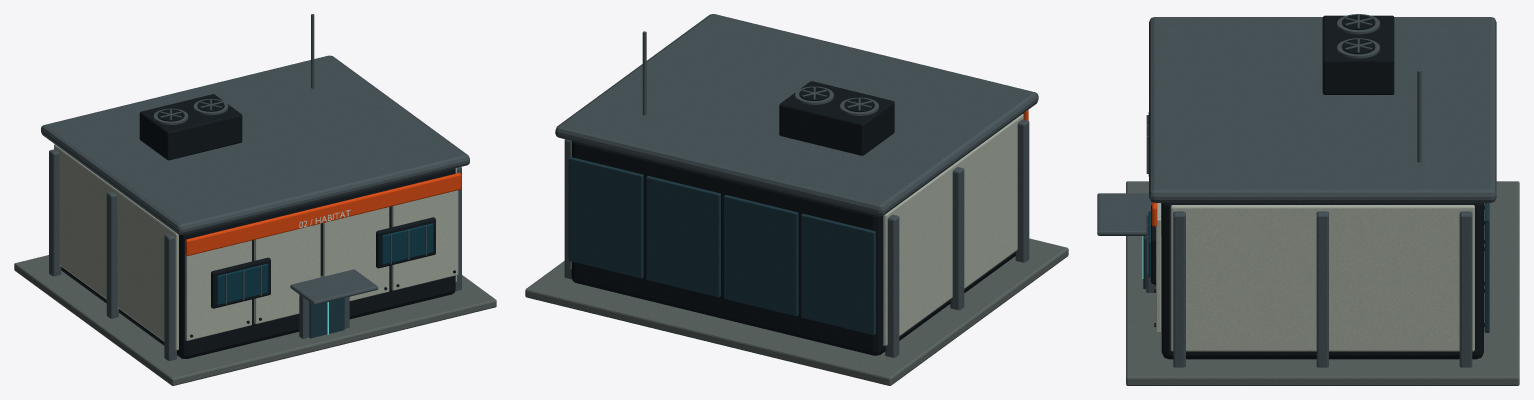
The model's file is Habitat.gltf.
3 renders of one model, left to right at view 1: azimuth 30°, elevation 25°; view 2: azimuth 150°, elevation 25°; view 3: azimuth 270°, elevation 25°, orthographic. The views are drawn at different scales.
Parts seen in each view (by area): view 1: Habitat_Metal_gris, Habitat_Panel_marfil, Habitat_Acero_oscuro, Habitat_Hormigon, Habitat_Naranja, Habitat_Vidrio, Habitat_Panel_azul; view 2: Habitat_Metal_gris, Habitat_Panel_azul, Habitat_Acero_oscuro, Habitat_Hormigon, Habitat_Panel_marfil; view 3: Habitat_Metal_gris, Habitat_Panel_marfil, Habitat_Hormigon, Habitat_Acero_oscuro, Habitat_Panel_azul.
Part boxes in pixels (bbox=[...]): Habitat_Metal_gris: bbox=[41, 14, 469, 360]; Habitat_Panel_marfil: bbox=[54, 144, 458, 350]; Habitat_Acero_oscuro: bbox=[61, 94, 455, 358]; Habitat_Hormigon: bbox=[14, 255, 496, 385]; Habitat_Naranja: bbox=[185, 173, 461, 255]; Habitat_Vidrio: bbox=[217, 223, 433, 304]; Habitat_Panel_azul: bbox=[309, 298, 344, 338]; Habitat_Metal_gris: bbox=[555, 14, 1038, 357]; Habitat_Panel_azul: bbox=[568, 157, 875, 335]; Habitat_Acero_oscuro: bbox=[571, 81, 1015, 355]; Habitat_Hormigon: bbox=[525, 238, 1068, 385]; Habitat_Panel_marfil: bbox=[570, 114, 1023, 345]; Habitat_Metal_gris: bbox=[1097, 14, 1496, 367]; Habitat_Panel_marfil: bbox=[1156, 203, 1474, 351]; Habitat_Hormigon: bbox=[1126, 181, 1519, 385]; Habitat_Acero_oscuro: bbox=[1151, 15, 1484, 359]; Habitat_Panel_azul: bbox=[1143, 203, 1489, 332].
Size of the model in its own units: 26 by 17 by 23.6.
9 materials, 9 textured.
